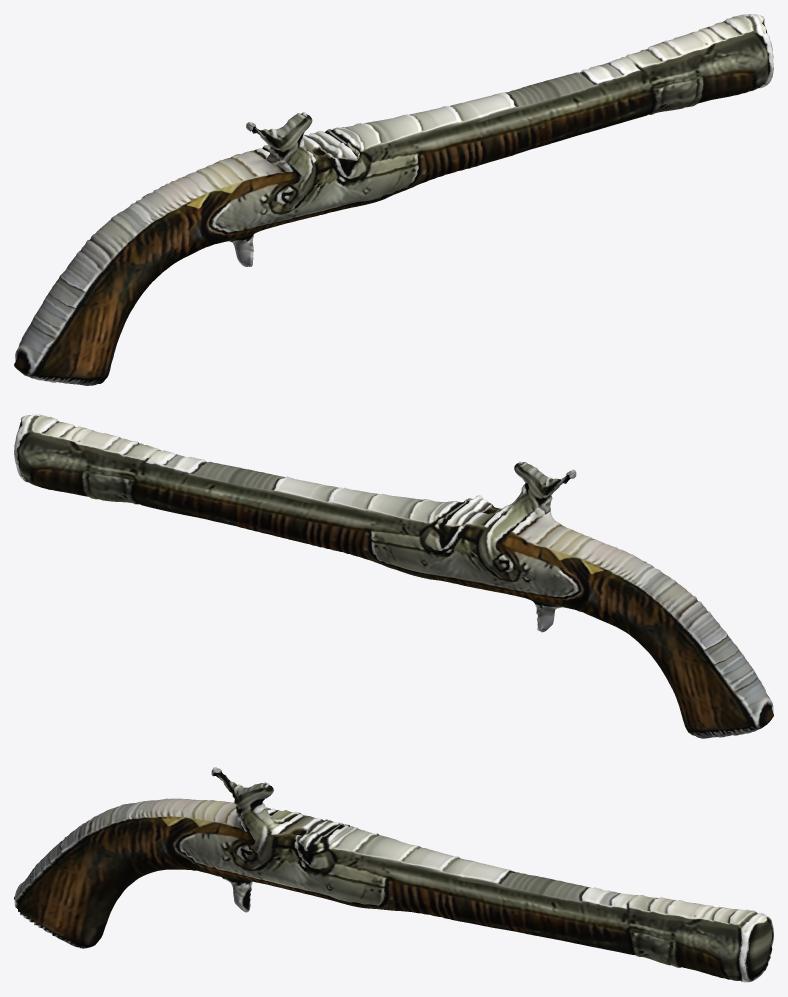
Rendered from kfl-2171.glb.
3 renders of one model, top to bottom at view 1: azimuth 30°, elevation 25°; view 2: azimuth 150°, elevation 25°; view 3: azimuth 330°, elevation 25°, orthographic. The views are drawn at different scales.
Parts seen in each view (by area): view 1: kfl-2171; view 2: kfl-2171; view 3: kfl-2171.
Boxes of the visible parts, x1=… form: kfl-2171: x1=14, y1=14, x2=773, y2=385; kfl-2171: x1=14, y1=414, x2=773, y2=738; kfl-2171: x1=14, y1=767, x2=773, y2=982.
Bounding box in the file's own units: 0.9874 × 0.2865 × 0.1312.
1 material, 1 textured.
